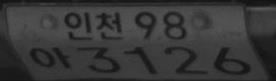1: (123, 46, 159, 75)
2: (163, 45, 208, 74)
3: (77, 45, 120, 73)
6: (212, 46, 252, 76)
8: (162, 10, 187, 40)
9: (134, 10, 157, 39)
아: (27, 46, 72, 70)
인천_H: (64, 11, 123, 41)
